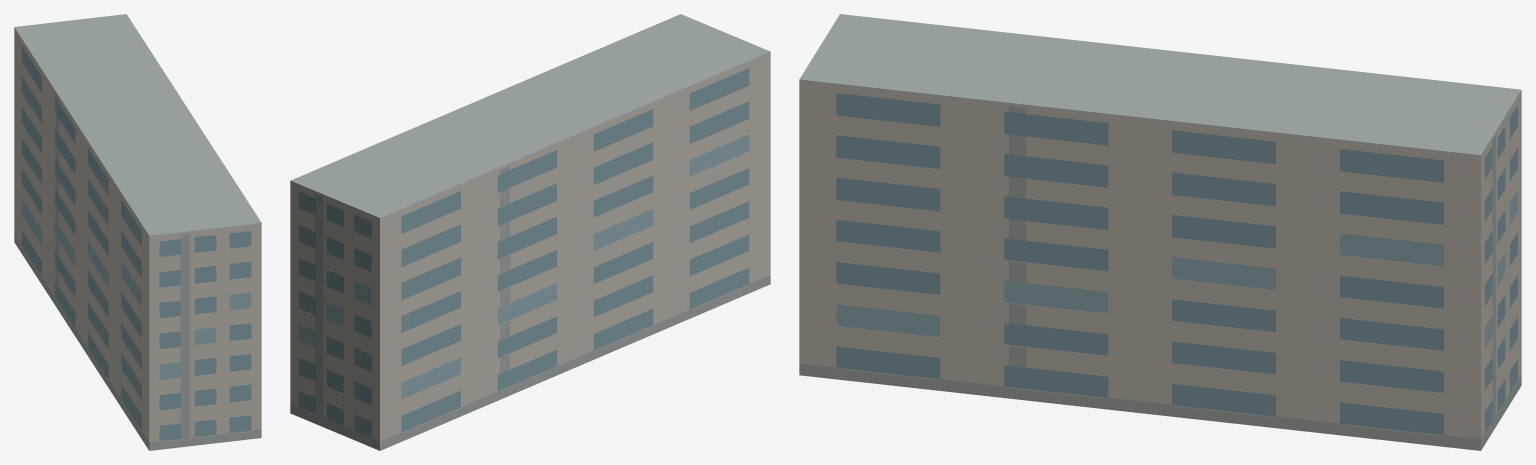
File: residential-b0f29c6b-187b-401a-a827-e11681d8120a.glb
3 renders of one model, left to right at view 1: azimuth 30°, elevation 25°; view 2: azimuth 150°, elevation 25°; view 3: azimuth 270°, elevation 25°, orthographic. The views are drawn at different scales.
Visible parts, largest first — view 1: residential-b0f29c6b-187b-401a-a827-e11681d8120a.tmp; view 2: residential-b0f29c6b-187b-401a-a827-e11681d8120a.tmp; view 3: residential-b0f29c6b-187b-401a-a827-e11681d8120a.tmp.
Part boxes in pixels (left/top/right/bottom): residential-b0f29c6b-187b-401a-a827-e11681d8120a.tmp: left=14, top=14, right=261, bottom=450; residential-b0f29c6b-187b-401a-a827-e11681d8120a.tmp: left=290, top=14, right=770, bottom=450; residential-b0f29c6b-187b-401a-a827-e11681d8120a.tmp: left=799, top=14, right=1521, bottom=450.
Size of the model in its own units: 21.87 by 21.35 by 47.27.
